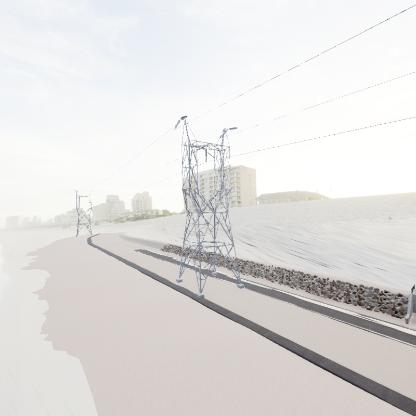tower: (170, 110, 246, 303), (70, 187, 97, 240)
